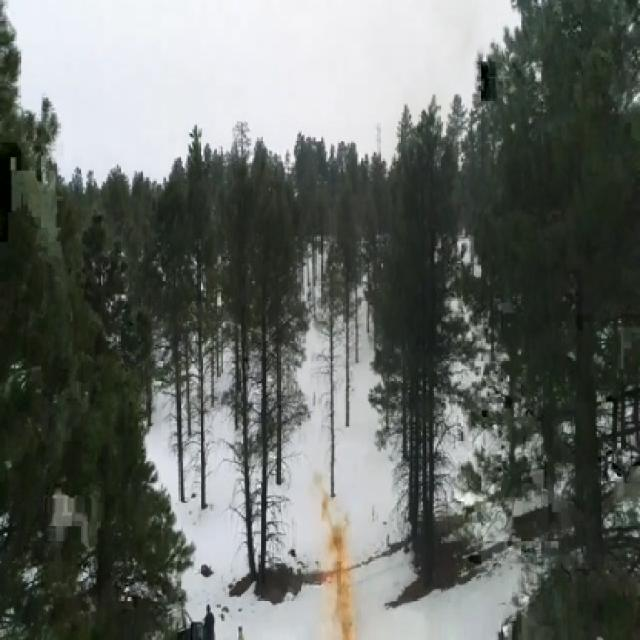Fire: (327, 501, 351, 639)
